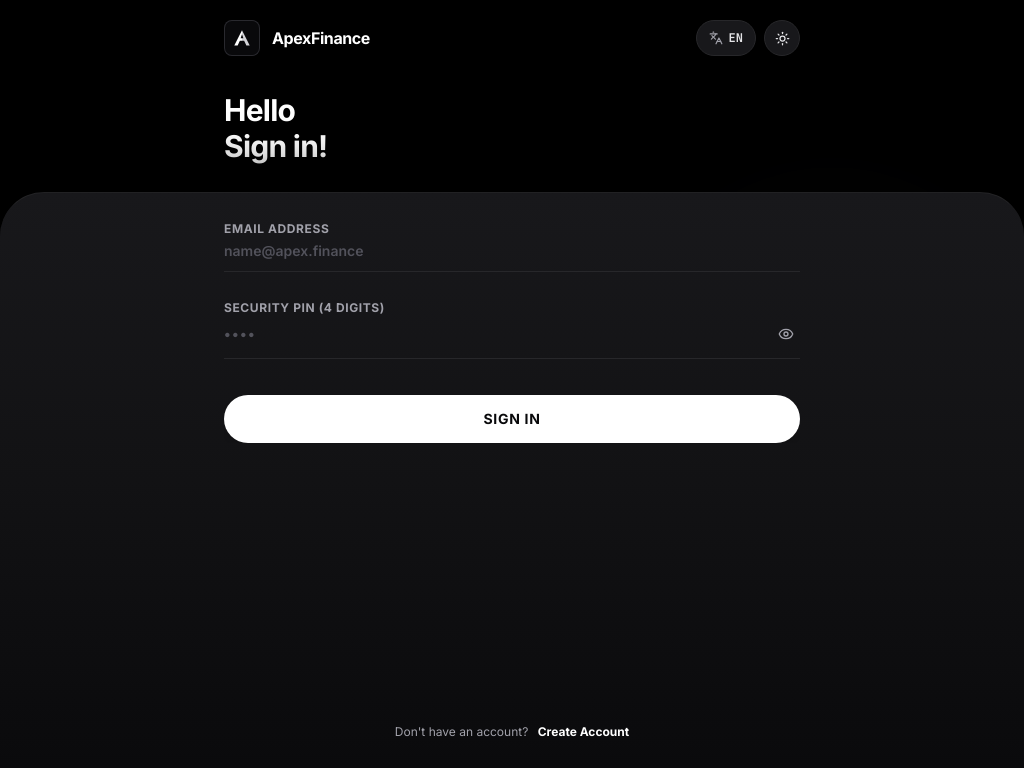
Test case: Real User Account & Authentication Unit Tests › AuthScreen Gate Component Tests › toggles between Sign In and Sign Up modes cleanly
The width and height of the screenshot is (1024, 768).
Expected: the field with placeholder "Kong Chamroeun" is not shown
Click the button with test id "auth-tab-signup": {"x": 583, "y": 732} 538,720 -> 629,744
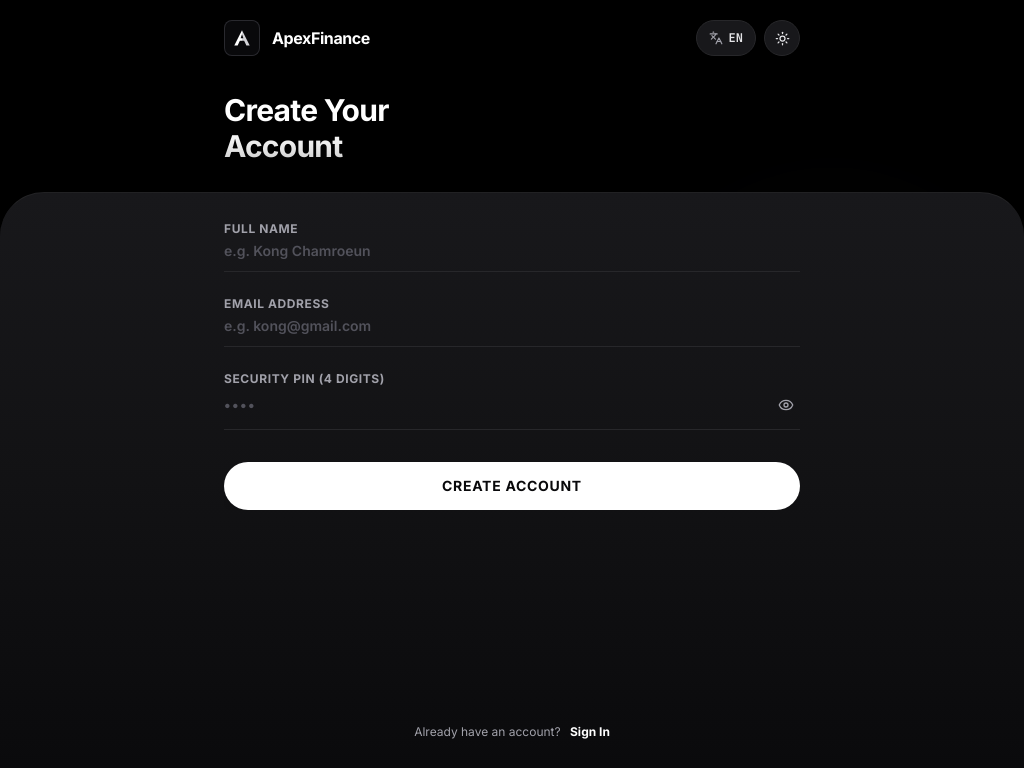
Expected: the field with placeholder "e.g. Kong Chamroeun" is shown, 224,241 -> 800,261
